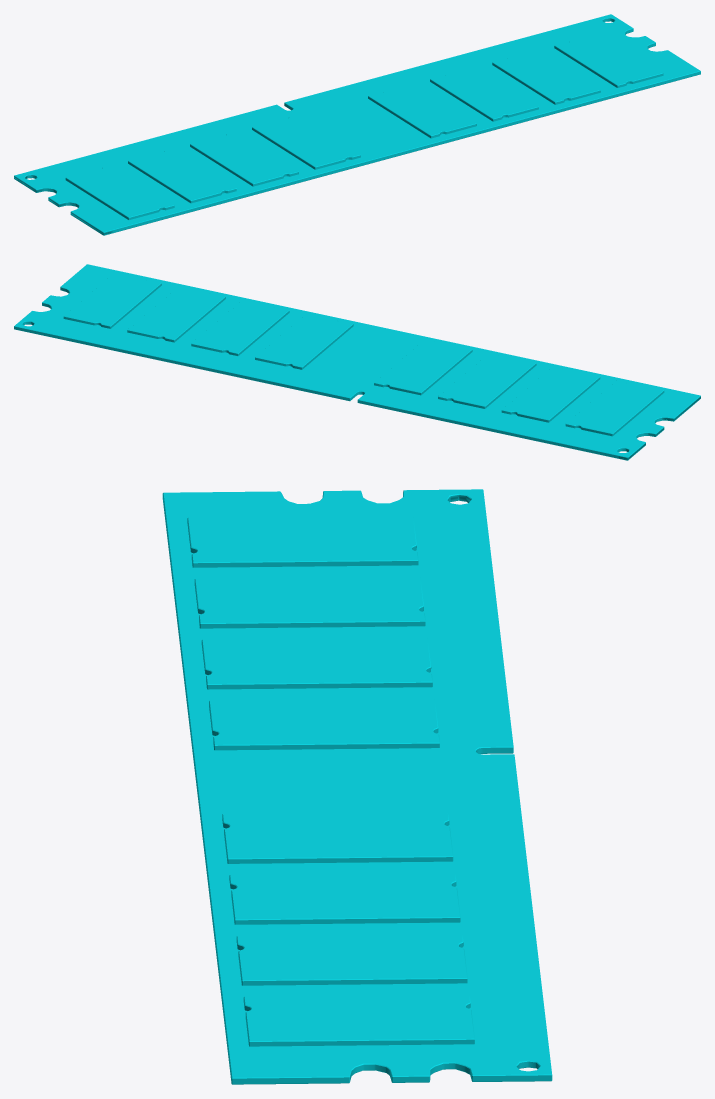
File: ram.glb
3 renders of one model, top to bottom at view 1: azimuth 30°, elevation 25°; view 2: azimuth 150°, elevation 25°; view 3: azimuth 270°, elevation 25°, orthographic. The views are drawn at different scales.
Parts seen in each view (by area): view 1: ram; view 2: ram; view 3: ram.
Part boxes in pixels (<box>): ram: <box>14,14,700,235</box>; ram: <box>14,264,700,460</box>; ram: <box>162,489,552,1084</box>.
Size of the model in its own units: 1.15 by 0.0204 by 0.321.
